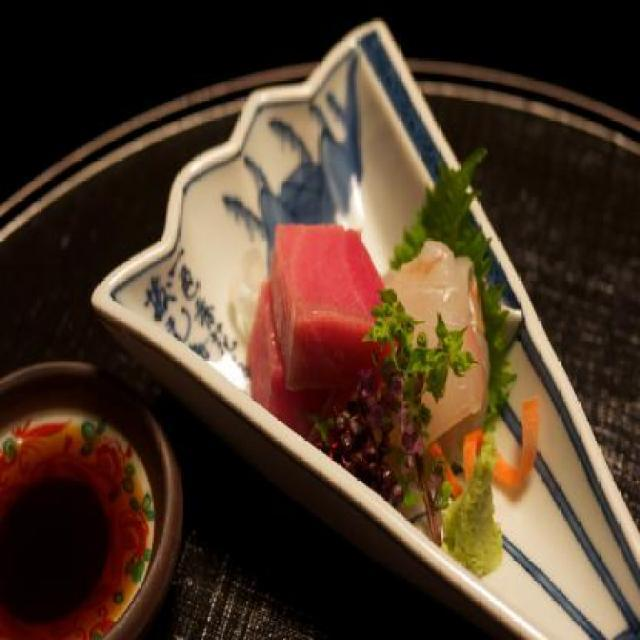Carrot: (430, 393, 539, 502)
